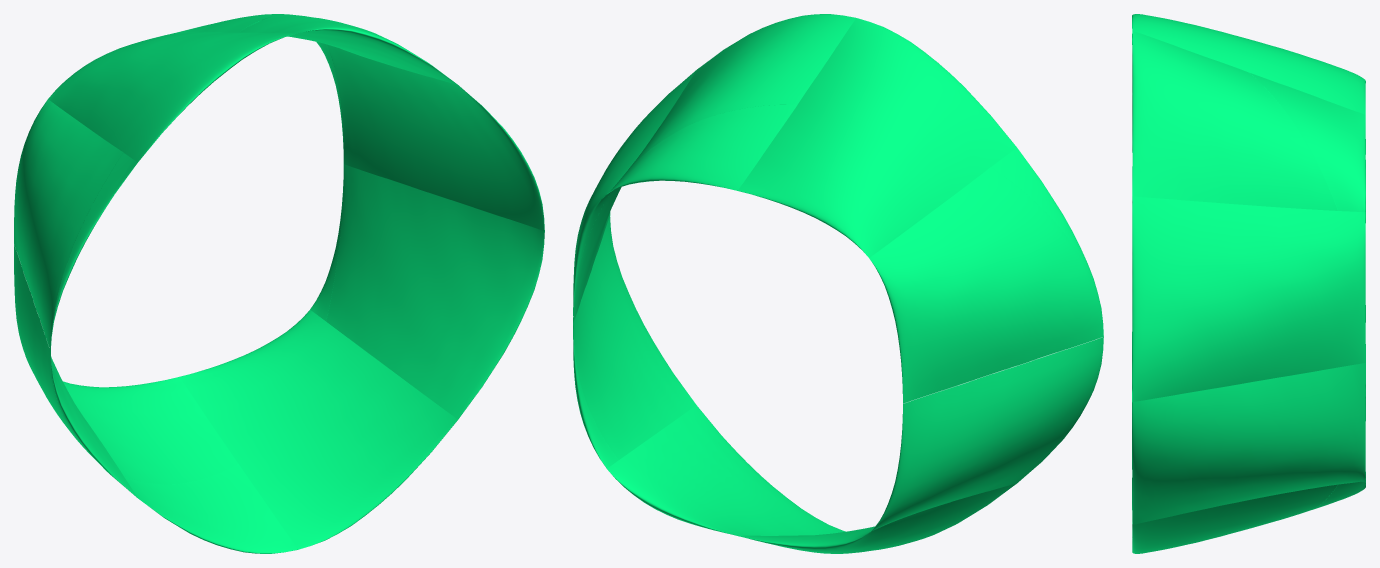
Rendered from ricci_curvature_surface_ar_universal.glb.
3 views of the same model, side by side, from view 1: azimuth 30°, elevation 25°; view 2: azimuth 150°, elevation 25°; view 3: azimuth 270°, elevation 25° (orthographic).
Visible parts, largest first — view 1: ricci_curvature_surface_ar; view 2: ricci_curvature_surface_ar; view 3: ricci_curvature_surface_ar.
Boxes of the visible parts, x1,y1,x2,y2 form: ricci_curvature_surface_ar: (14, 14, 544, 553); ricci_curvature_surface_ar: (573, 14, 1103, 553); ricci_curvature_surface_ar: (1132, 14, 1365, 553).
Bounding box in the file's own units: 1 × 1 × 0.418.
